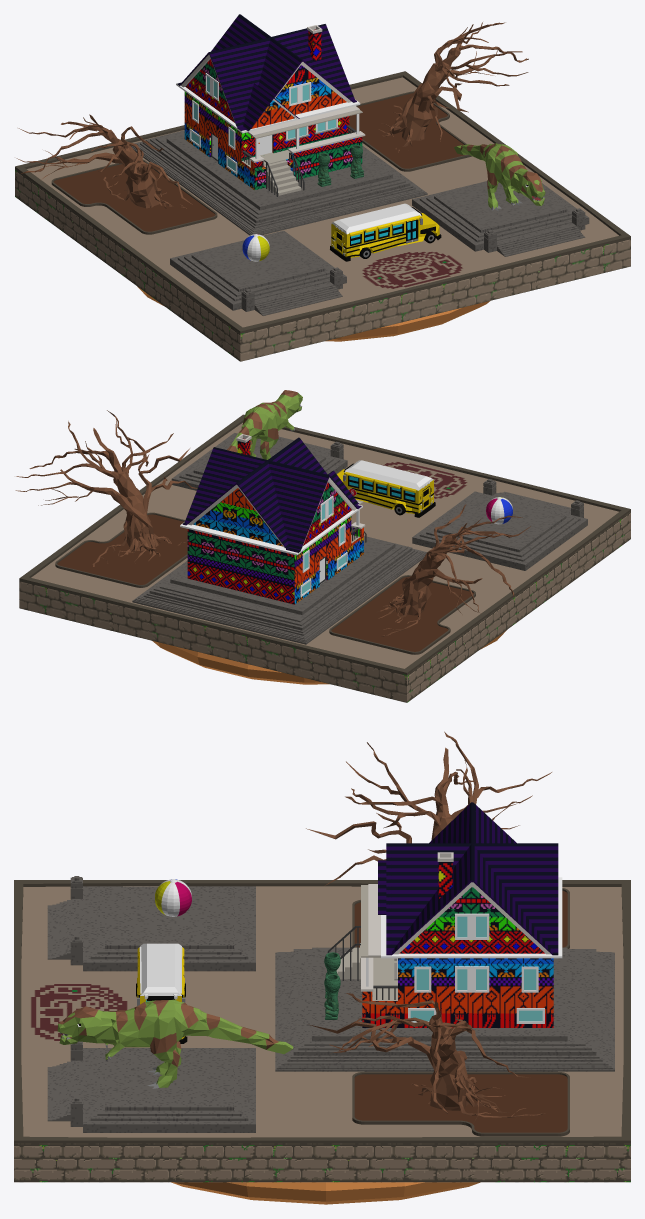
3 renders of one model, top to bottom at view 1: azimuth 30°, elevation 25°; view 2: azimuth 150°, elevation 25°; view 3: azimuth 270°, elevation 25°, orthographic. The views are drawn at different scales.
Visible parts, largest first — view 1: Cube.011, Cube.966, VEHICLES_SCHOOL_BUS, ANIMAL_TREX, UNDERGROUND_PIZZA, OBJRANDOM_BEACHBALL; view 2: Cube.011, Cube.966, VEHICLES_SCHOOL_BUS, ANIMAL_TREX, UNDERGROUND_PIZZA, OBJRANDOM_BEACHBALL; view 3: Cube.011, Cube.966, ANIMAL_TREX, UNDERGROUND_PIZZA, VEHICLES_SCHOOL_BUS, OBJRANDOM_BEACHBALL.
Boxes of the visible parts, x1,y1,x2,y2 form: Cube.011: [15, 22, 630, 361]; Cube.966: [176, 14, 365, 196]; VEHICLES_SCHOOL_BUS: [330, 203, 441, 261]; ANIMAL_TREX: [454, 143, 545, 210]; UNDERGROUND_PIZZA: [137, 286, 489, 341]; OBJRANDOM_BEACHBALL: [242, 234, 269, 261]; Cube.011: [15, 410, 630, 702]; Cube.966: [180, 434, 366, 604]; VEHICLES_SCHOOL_BUS: [336, 460, 435, 517]; ANIMAL_TREX: [227, 390, 302, 459]; UNDERGROUND_PIZZA: [152, 630, 506, 684]; OBJRANDOM_BEACHBALL: [486, 497, 512, 524]; Cube.011: [14, 731, 630, 1182]; Cube.966: [327, 802, 562, 1027]; ANIMAL_TREX: [57, 999, 293, 1088]; UNDERGROUND_PIZZA: [171, 1182, 480, 1204]; VEHICLES_SCHOOL_BUS: [136, 943, 187, 1043]; OBJRANDOM_BEACHBALL: [155, 879, 191, 916].
Bounding box in the file's own units: 5099 × 1872 × 4000.
Materials: 47 (9 with a texture image).
